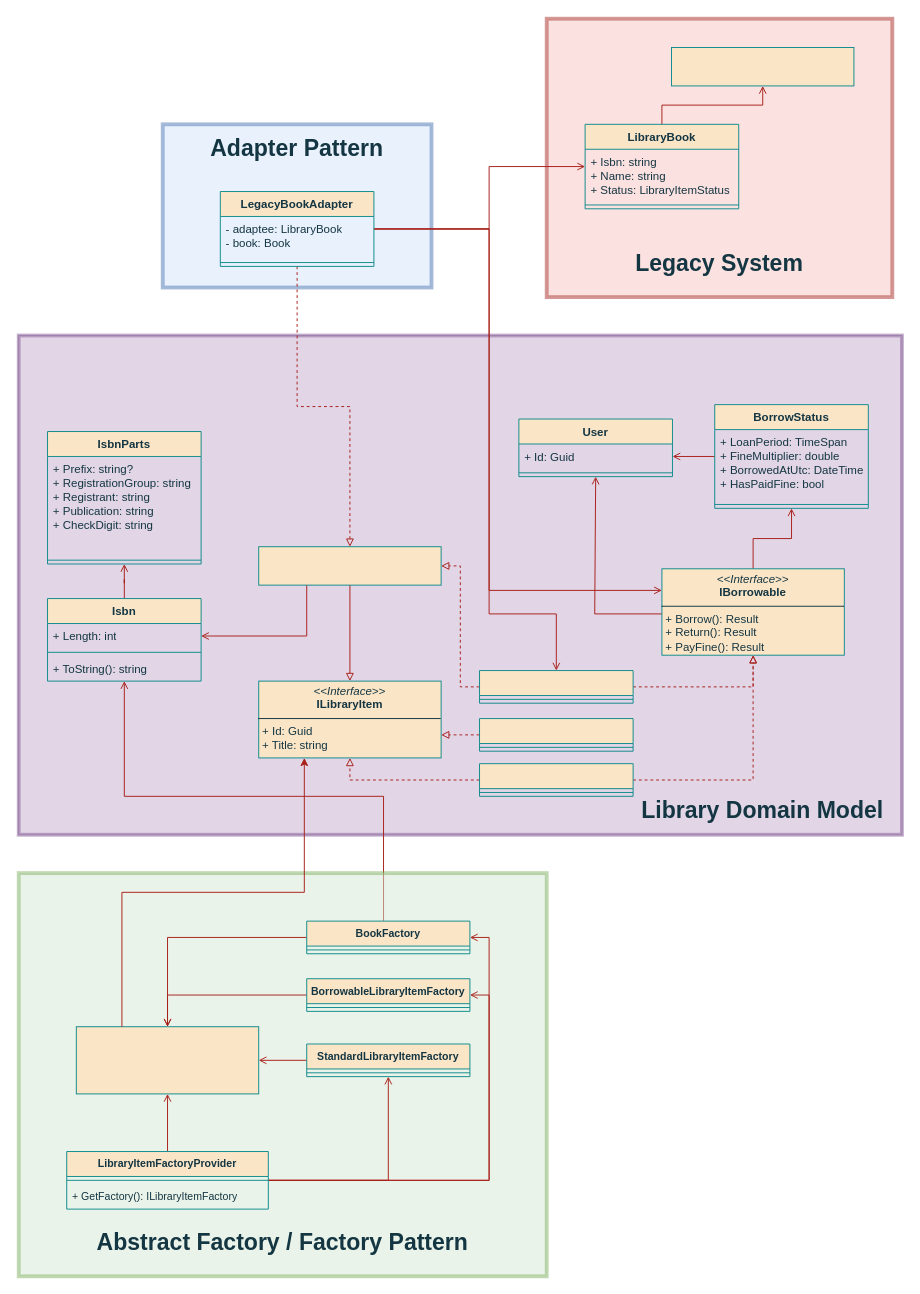
Some shapes in this 920 by 1294 pixel diagram are drawn without their labels. Here are the shapes that lost their labels. From the top down, the centre of each, then its label:
point (762, 66): <<enumeration>> LibraryItemStatus
point (349, 565): <<Interface>> IBook
point (556, 686): Book
point (556, 734): Archive
point (556, 779): Dvd
point (167, 1060): <<Interface>> ILibraryItemFactory + Create(): ILibraryItem
